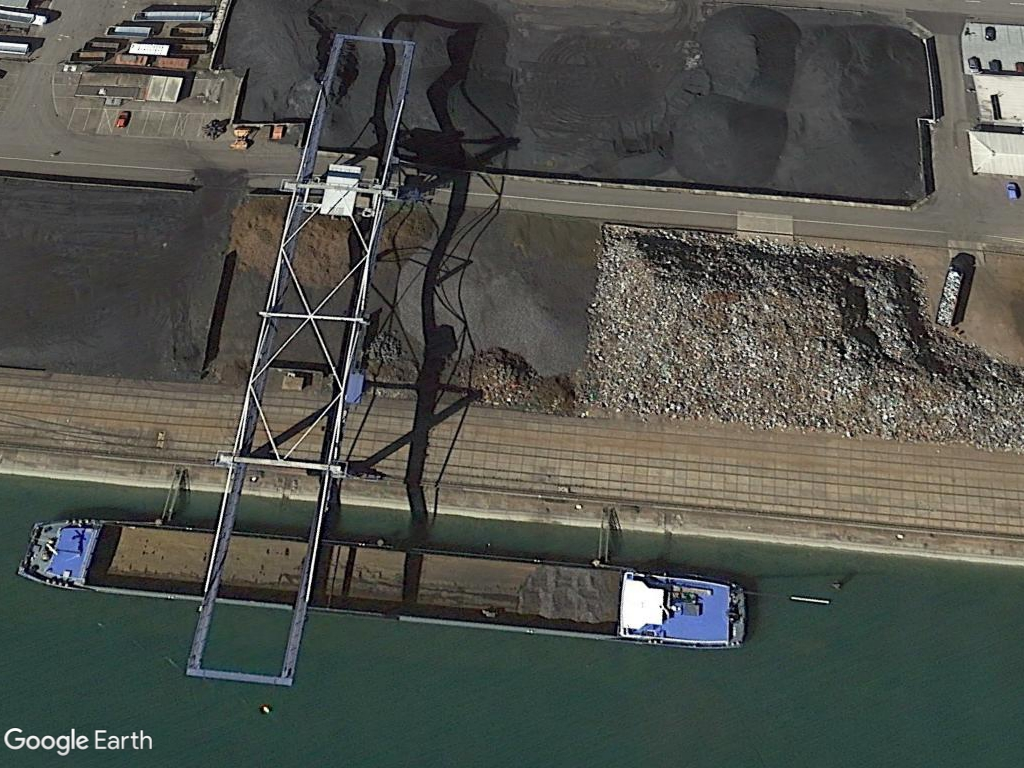boat: (17, 509, 750, 654)
